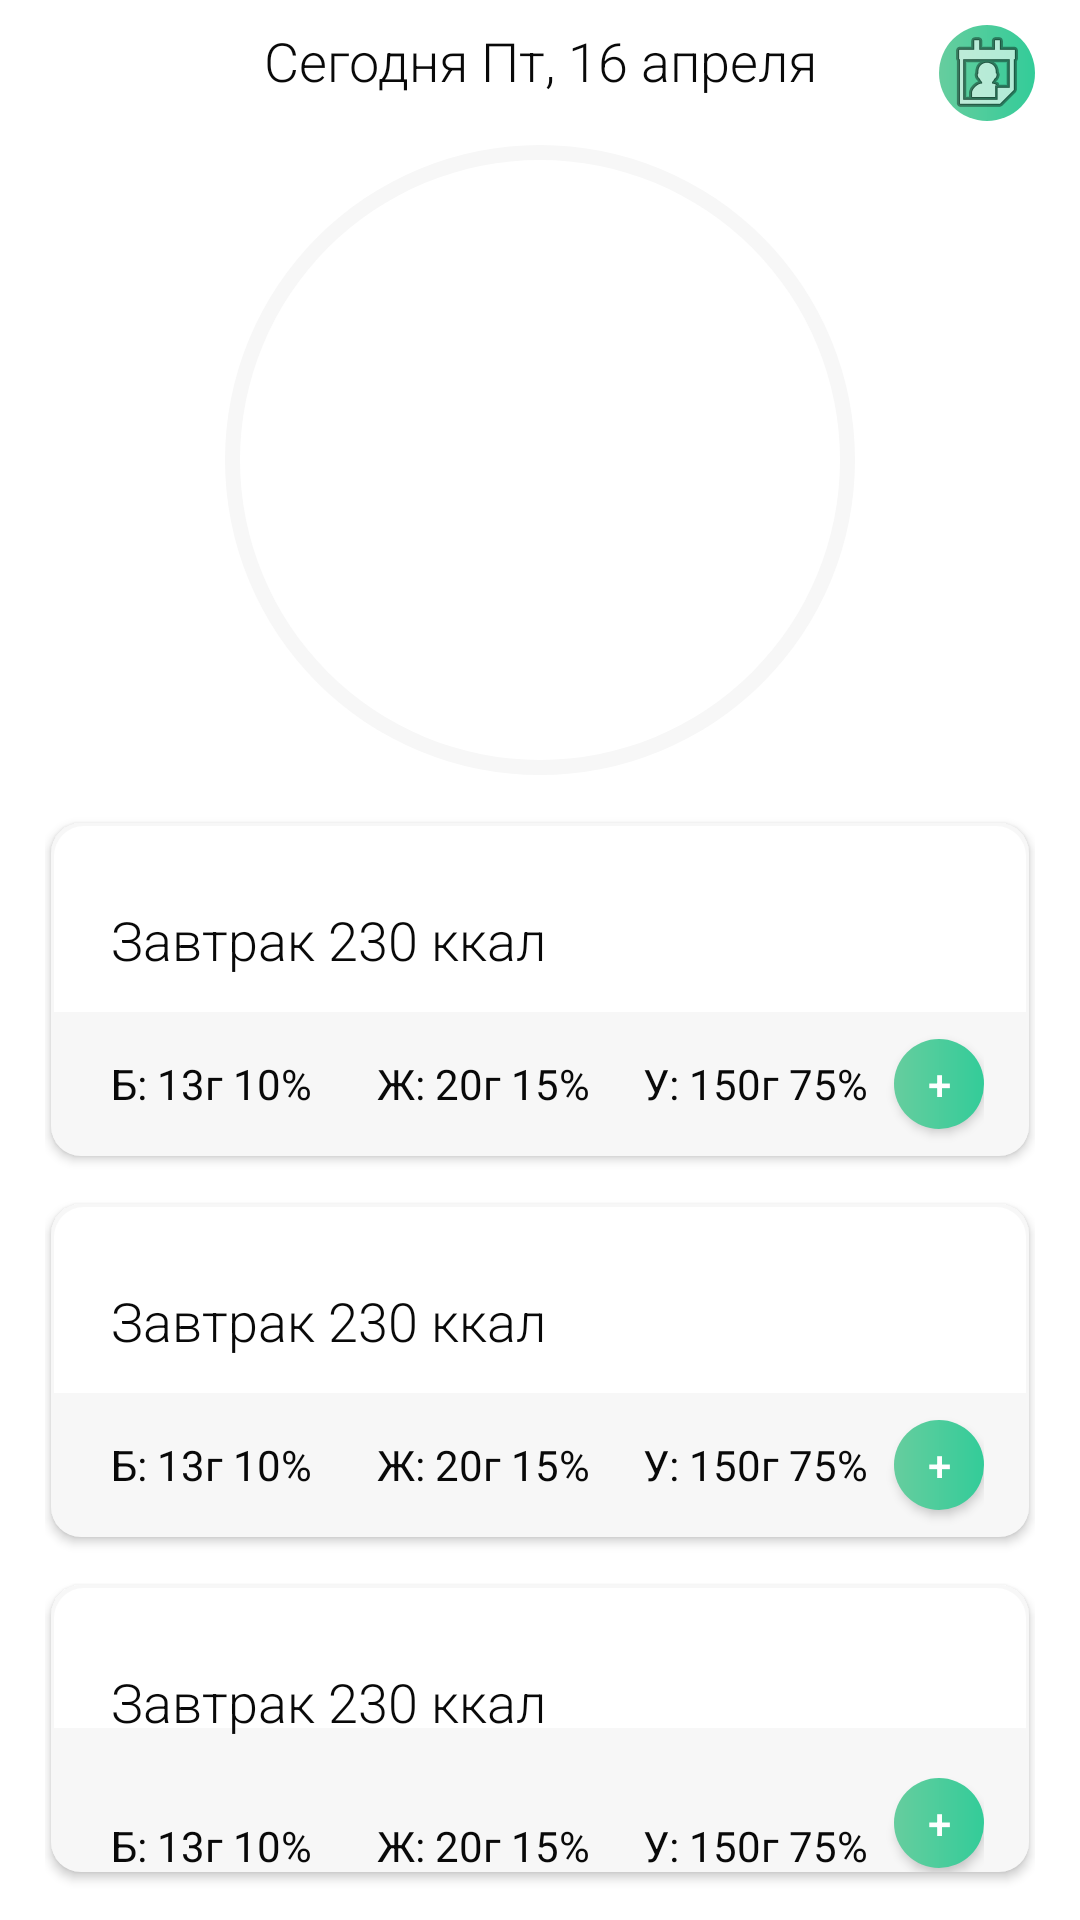

Screen size 1080×1920. Icon name, then its box in pixels as bbox=(x1, y1, x2, y2):
calendar: bbox=(939, 25, 1035, 121)
